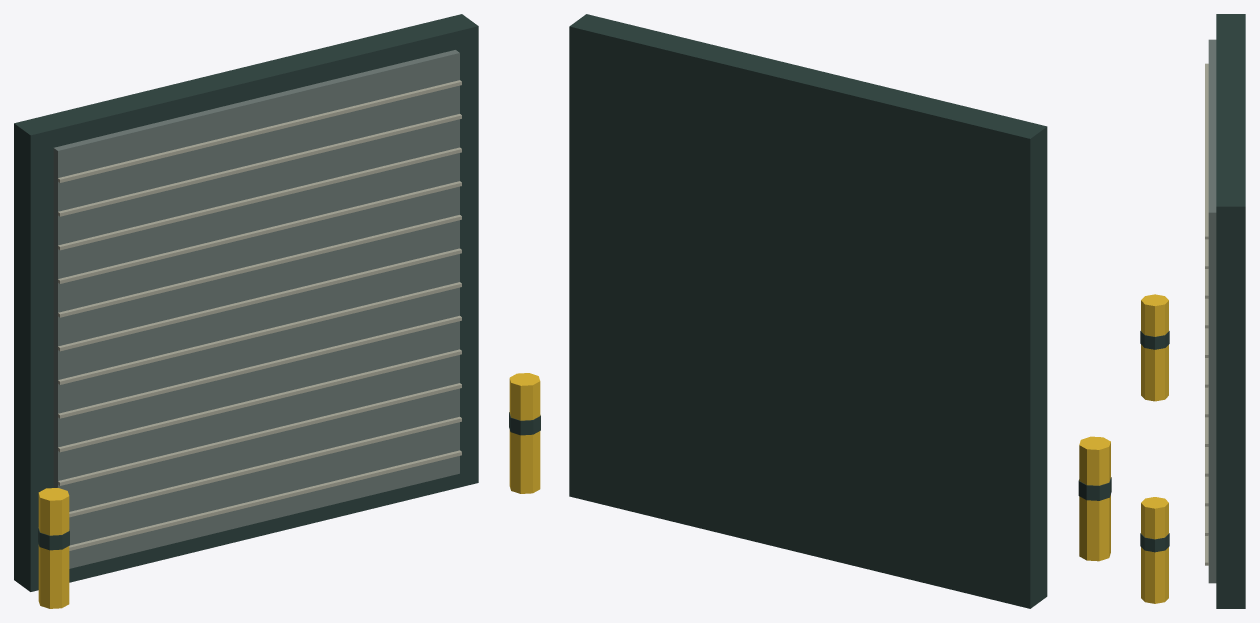
File: LoadingGate.obj
3 renders of one model, left to right at view 1: azimuth 30°, elevation 25°; view 2: azimuth 150°, elevation 25°; view 3: azimuth 270°, elevation 25°, orthographic. The views are drawn at different scales.
Visible parts, largest first — view 1: LoadingGate; view 2: LoadingGate; view 3: LoadingGate.
Boxes of the visible parts, box(x1,y1,x2,y2) form: LoadingGate: box(14, 14, 540, 608); LoadingGate: box(569, 14, 1111, 608); LoadingGate: box(1140, 14, 1245, 608).
Bounding box in the file's own units: 4.35 × 3.8 × 0.9.
